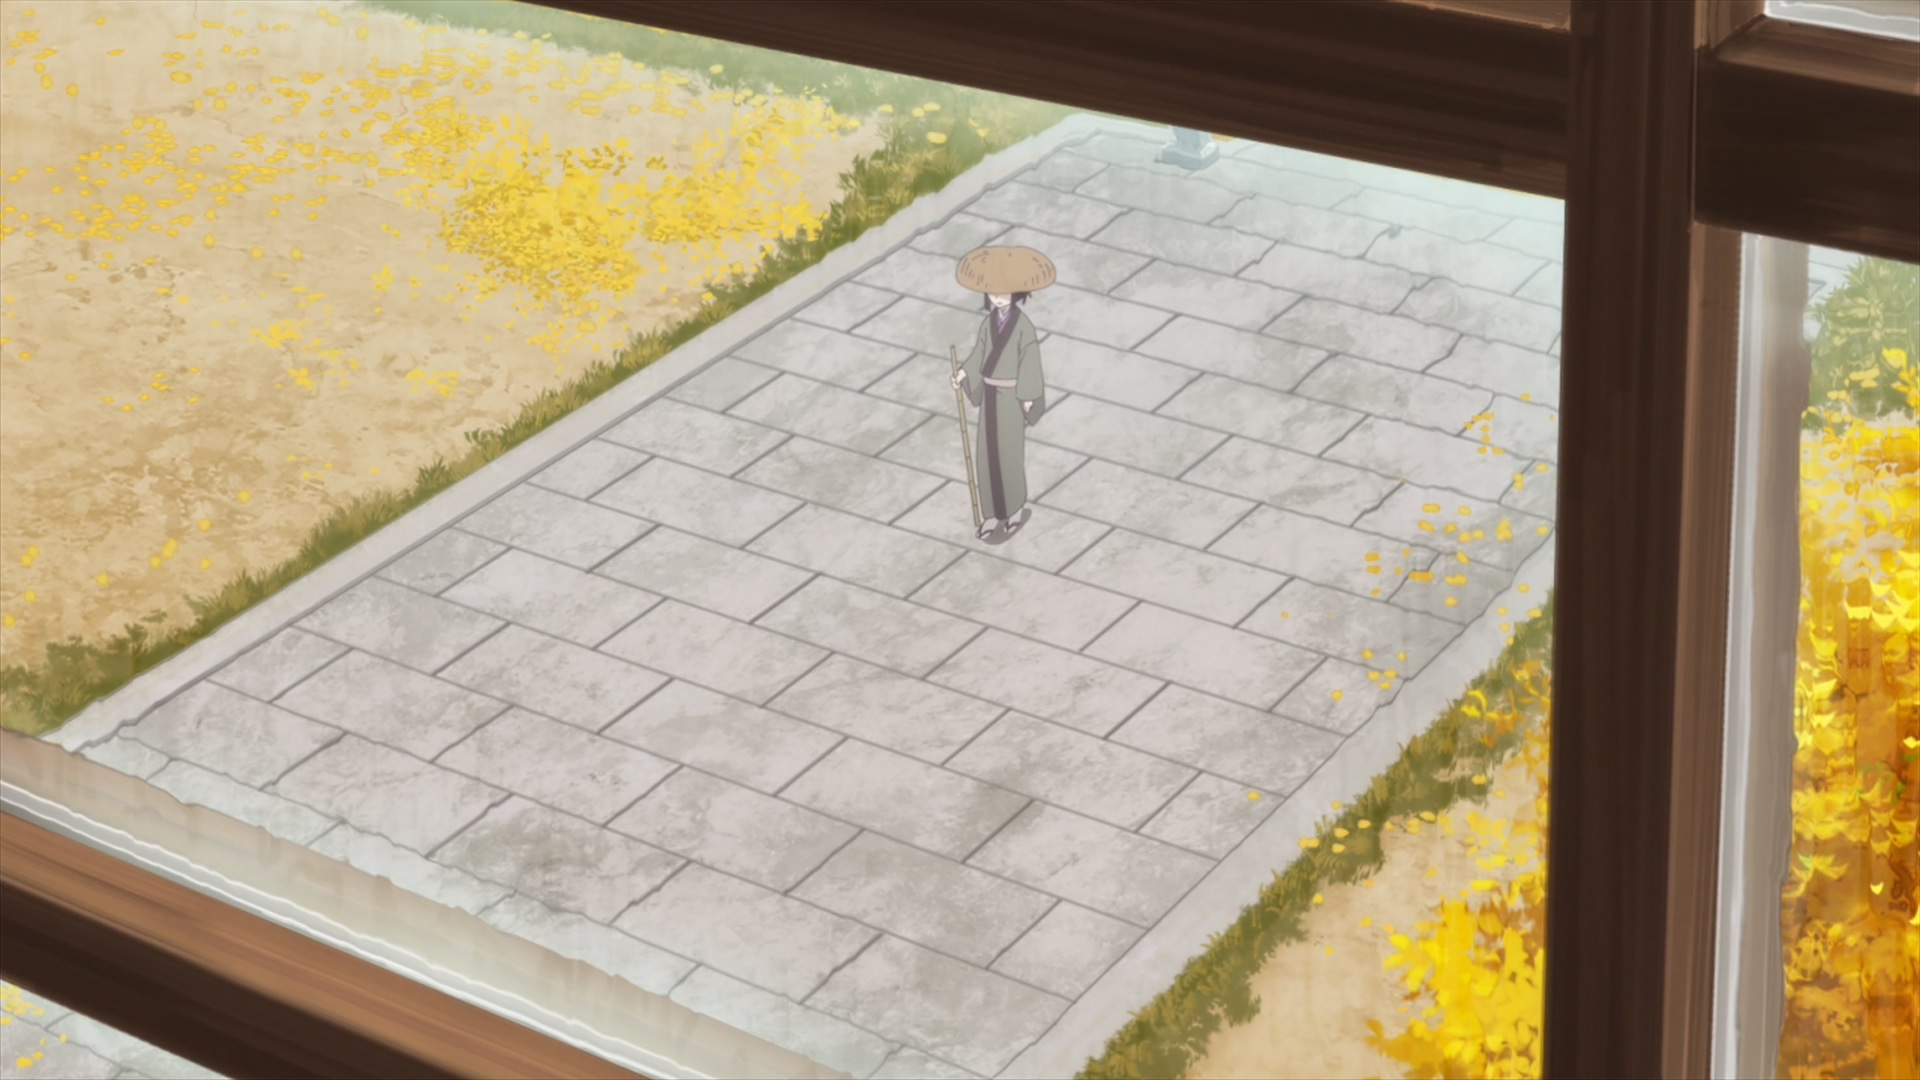其他: (949, 241, 1052, 542)
